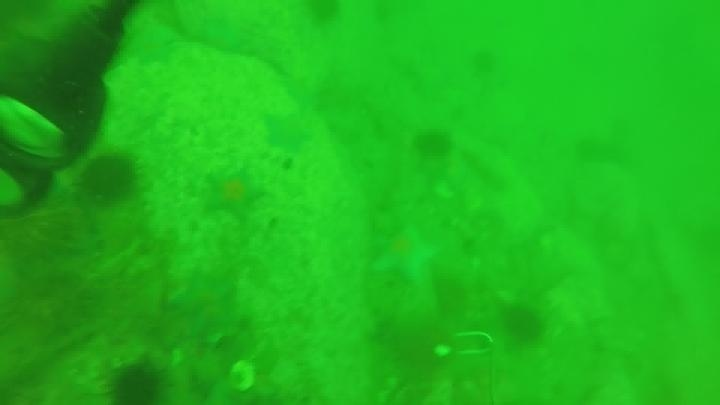echinus: (78, 152, 139, 205), (107, 362, 166, 404), (500, 303, 547, 346), (93, 2, 139, 42), (412, 128, 454, 160), (303, 1, 344, 26), (468, 46, 500, 77)
starfish: (168, 270, 244, 340), (370, 224, 439, 287), (201, 165, 268, 224), (260, 111, 314, 156), (129, 29, 179, 69)
